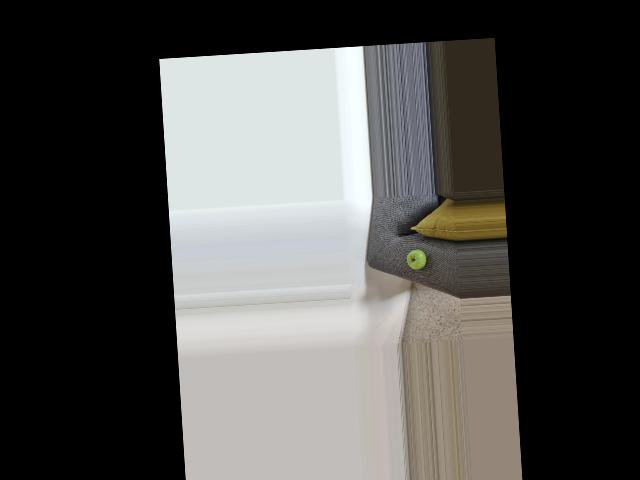apple: (405, 247, 429, 270)
